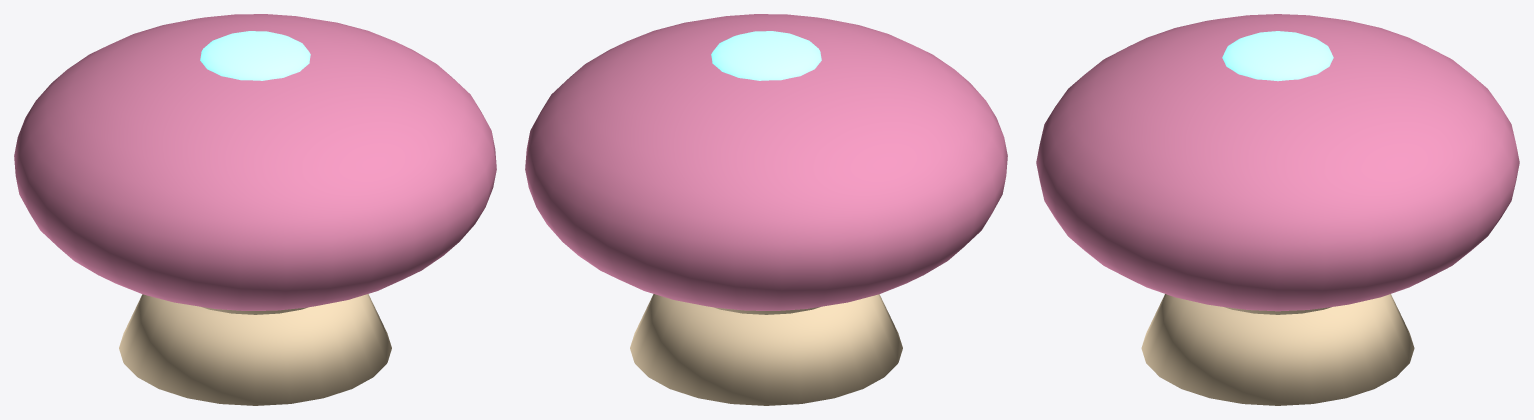
The model's file is BouncyShroom.fbx.
The picture shows the model from 3 angles, left to right: view 1: azimuth 30°, elevation 25°; view 2: azimuth 150°, elevation 25°; view 3: azimuth 270°, elevation 25°; orthographic projection.
Visible parts, largest first — view 1: BouncyShroom; view 2: BouncyShroom; view 3: BouncyShroom.
Part boxes in pixels (x1,y1,x2,y2): BouncyShroom: [14, 14, 496, 405]; BouncyShroom: [525, 14, 1007, 405]; BouncyShroom: [1036, 14, 1519, 405].
Size of the model in its own units: 170 by 170 by 118.
1 material, 1 textured.
